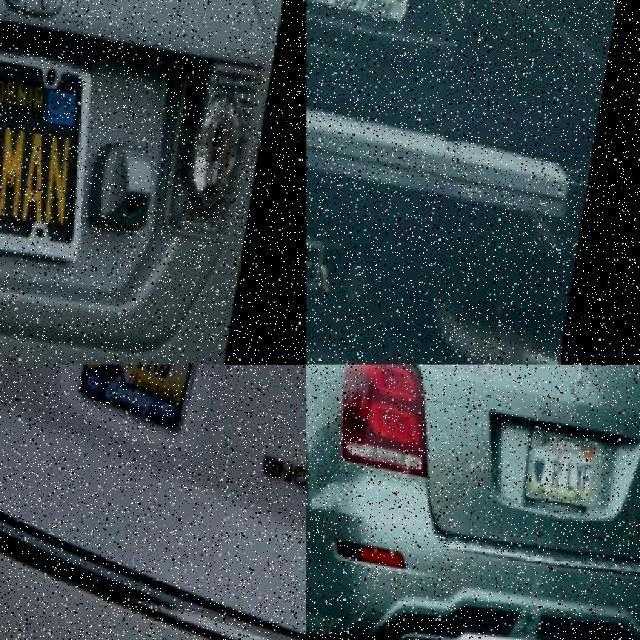LicensePlate: (0, 25, 117, 262), (80, 365, 205, 454), (306, 0, 434, 62), (525, 417, 607, 502)
